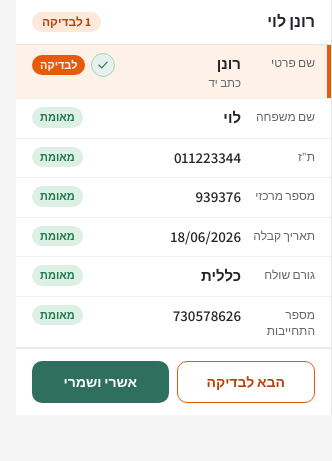
Test: FieldsPanel: saving clears the orange › a corrected value is saved and its flag disappears
The image size is (332, 461).
Click the text "רונן" at {"x": 229, "y": 64}, box [217,54,241,73]
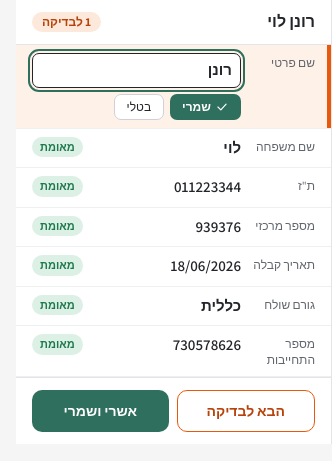
Replace the text in the field named "שם פרטי" with "דני" at {"x": 136, "y": 70}, box [32,53,241,88]
Then press Enter
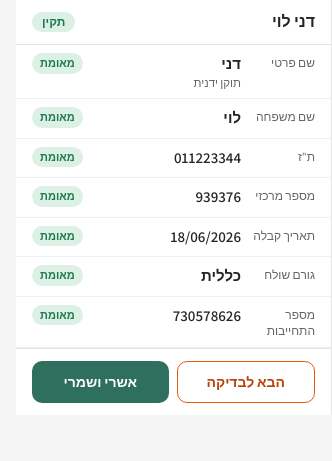
expect the text "דני" is shown: met, box [221,54,241,73]
expect the text "תוקן ידנית" is shown: met, box [194,74,241,90]
